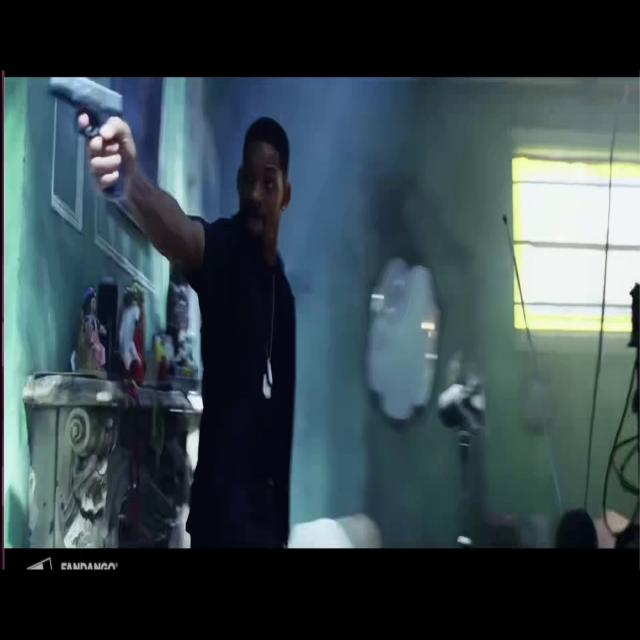weapons: (46, 77, 136, 206)
